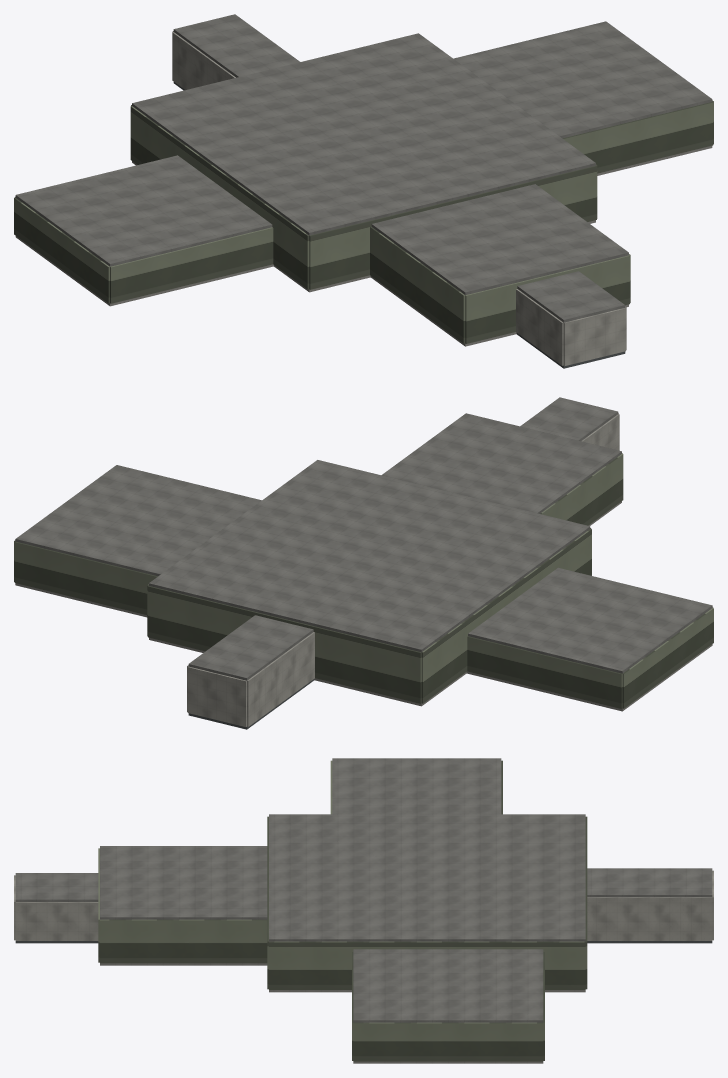
The model's file is op05_shell.glb.
3 renders of one model, top to bottom at view 1: azimuth 30°, elevation 25°; view 2: azimuth 150°, elevation 25°; view 3: azimuth 270°, elevation 25°, orthographic. The views are drawn at different scales.
Visible parts, largest first — view 1: op05_shell; view 2: op05_shell; view 3: op05_shell.
Part boxes in pixels (x1,y1,x2,y2): op05_shell: (14, 14, 713, 368); op05_shell: (14, 397, 713, 729); op05_shell: (14, 758, 713, 1063).
Bounding box in the file's own units: 60.3 × 5.55 × 66.3.
Materials: 5 (5 with a texture image).
